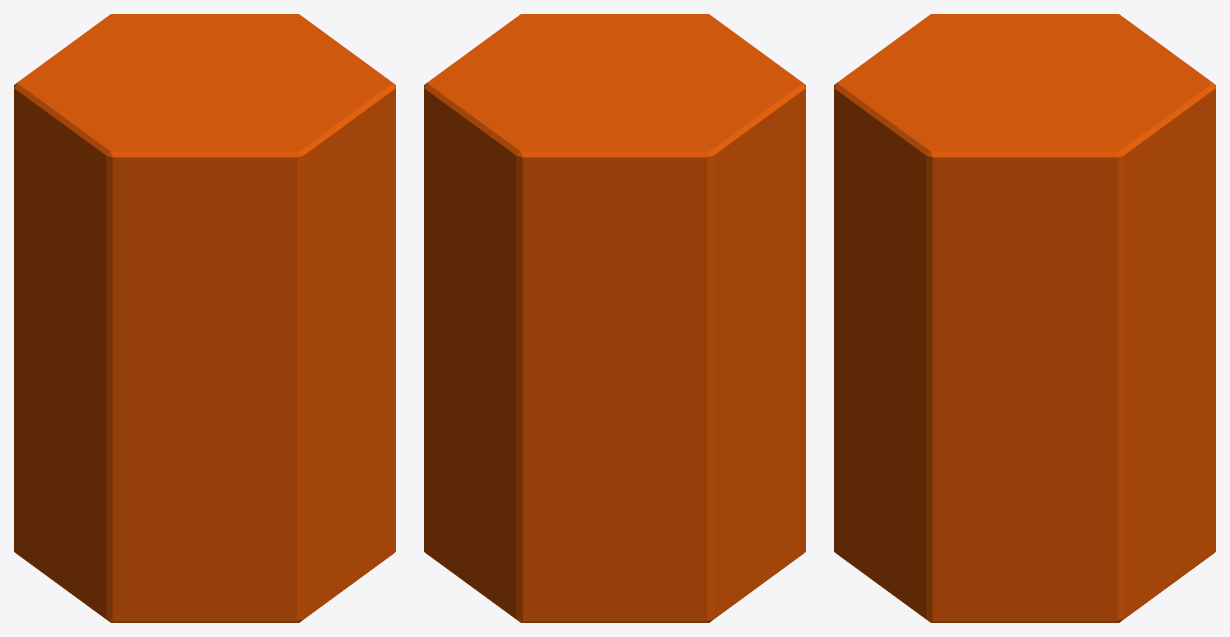
Rendered from SummerTreeTrunk.glb.
3 views of the same model, side by side, from view 1: azimuth 30°, elevation 25°; view 2: azimuth 150°, elevation 25°; view 3: azimuth 270°, elevation 25° (orthographic).
Visible parts, largest first — view 1: SummerTreeTrunk; view 2: SummerTreeTrunk; view 3: SummerTreeTrunk.
Boxes of the visible parts, <box> form: SummerTreeTrunk: <box>14,14,395,622</box>; SummerTreeTrunk: <box>424,14,805,622</box>; SummerTreeTrunk: <box>834,14,1215,622</box>.
Size of the model in its own units: 1.94 by 3.02 by 2.22.
